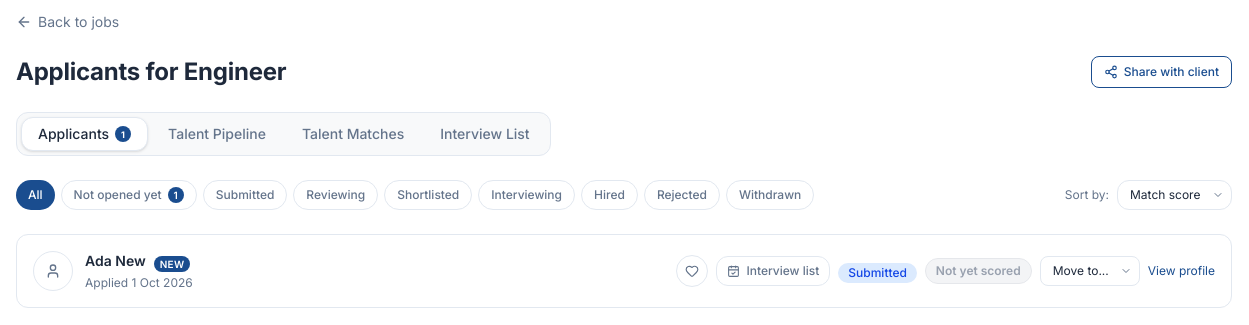
Test: ApplicantsPage, applicants not opened yet › counts an applicant as opened when they are moved to the interview list
expect the text "Ada New" is shown: met, box top-left (85, 252), bottom-right (146, 269)
What coordinates should you click on to do the following:
click the button with aria-label "Add to interview list"
I would click on:
 (773, 271)
Its box is top-left (716, 256), bottom-right (830, 286).
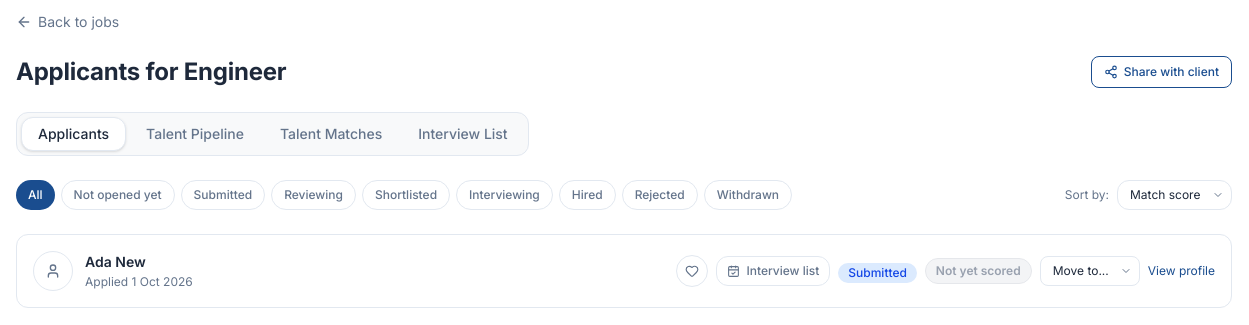
expect the text with test id "new-badge" is gone: met
